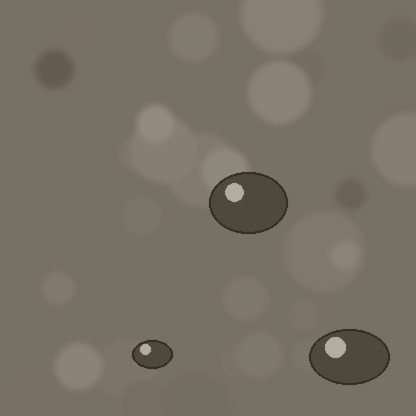gota: (209, 174, 287, 238), (309, 331, 389, 389), (132, 341, 172, 371)
